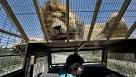lion: (39, 3, 136, 42)
